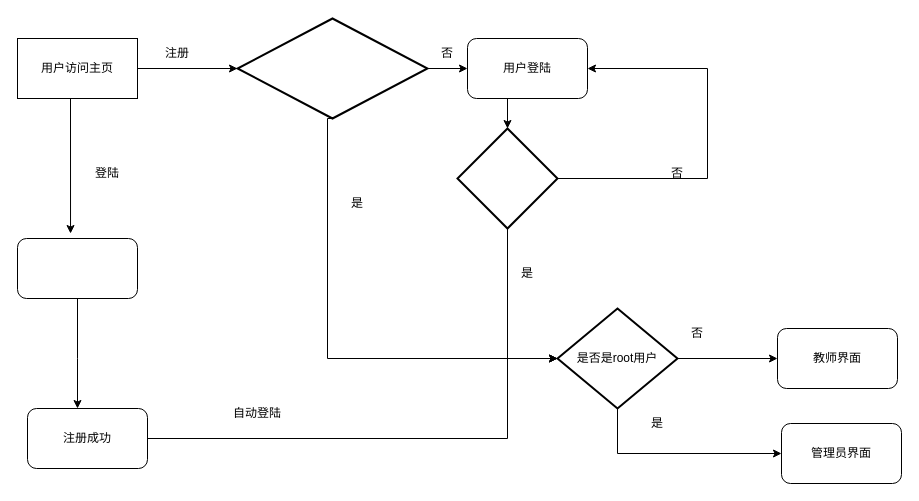
The diagram is 919 pixels wide and 501 high, and some of its shapes have lost their labels. Here are the shapes that lost their labels. From the top down, the centre of each, then its label:
At point 332,68: "是否已经登陆(使用token机制)".
At point 507,178: "登陆成功".
At point 77,268: "用户注册".
